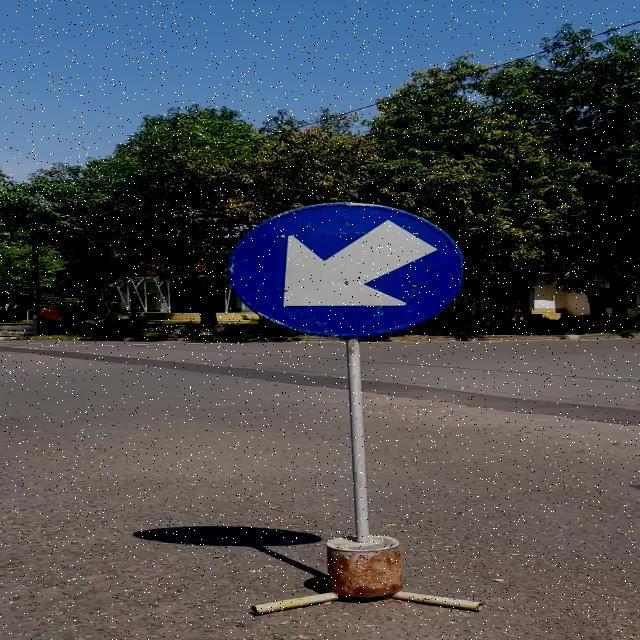Lajur Kiri: (229, 202, 464, 337)
